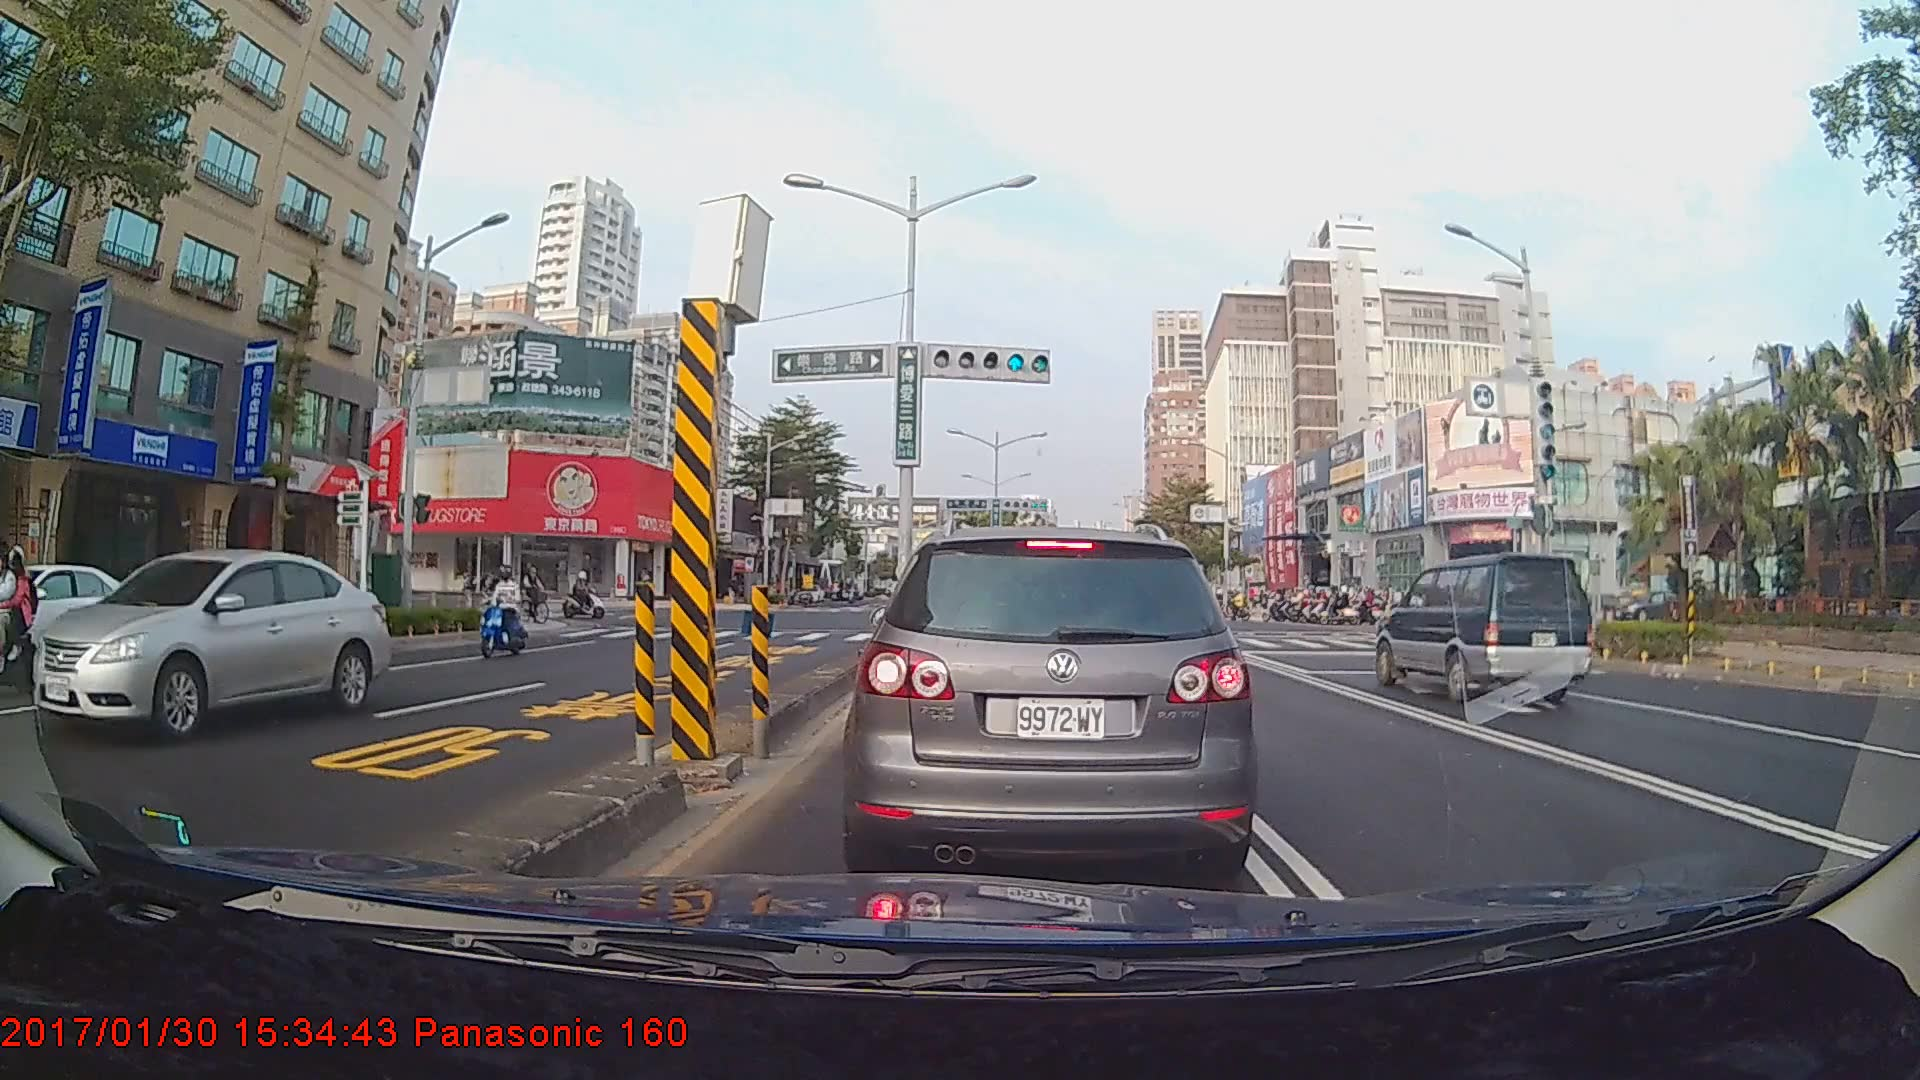pedestrian: (1570, 579, 1593, 637)
rider: (476, 561, 533, 665), (561, 569, 607, 616)
vehicle: (854, 521, 1250, 882), (30, 547, 386, 742), (1373, 550, 1594, 703), (0, 561, 157, 671)
